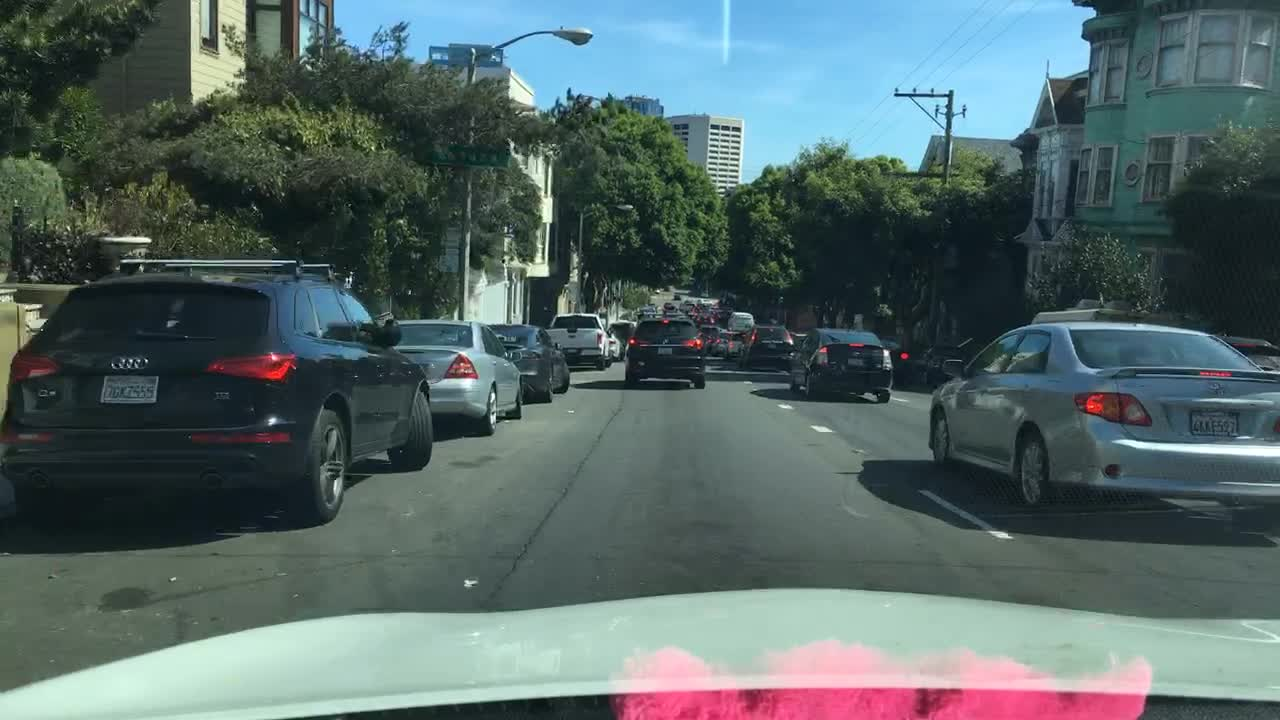car: (0, 257, 435, 529), (930, 321, 1278, 515), (390, 316, 524, 436), (783, 325, 893, 401), (484, 323, 568, 405), (623, 316, 707, 388), (736, 326, 791, 369), (1216, 334, 1278, 371), (879, 335, 910, 378), (696, 323, 721, 354), (610, 323, 636, 348), (722, 331, 743, 358), (712, 330, 726, 356), (694, 303, 712, 316), (638, 306, 655, 315), (681, 300, 693, 311), (671, 291, 683, 301), (661, 303, 675, 311), (718, 309, 726, 321)
traffic sign: (413, 141, 509, 168)
truck: (1029, 296, 1175, 333), (549, 313, 608, 369), (727, 311, 753, 335)
